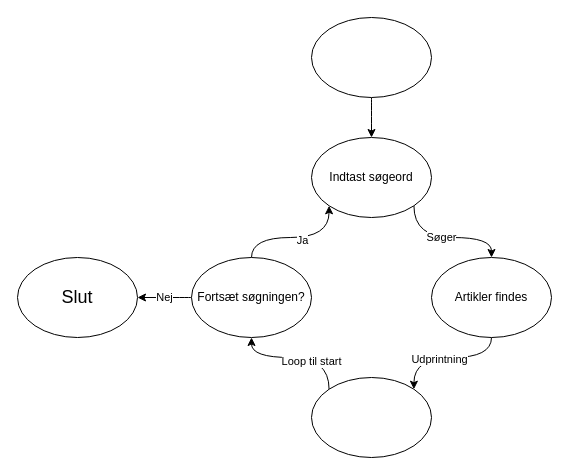
The diagram is 569 pixels wide and 475 high, and some of its shapes have lost their labels. The shapes that lost their labels are listed below. From the top down, each one's centre as x and y in pixels, then its label:
[371,57]: Start
[371,417]: Artiklernes data printes
